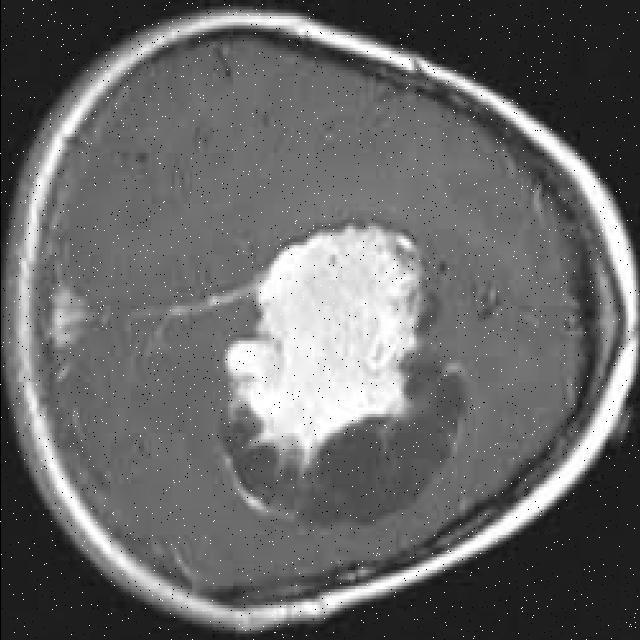Meningioma: (224, 227, 463, 524)
